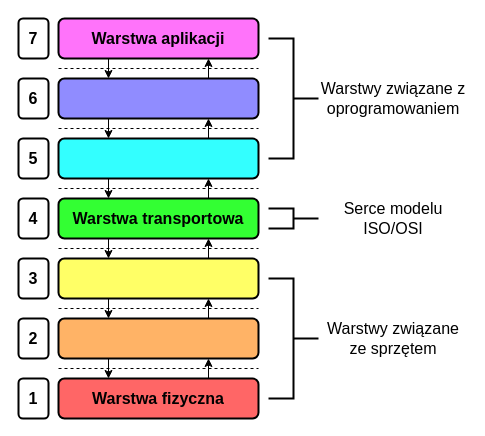
The diagram is 485 pixels wide and 436 high, and some of its shapes have lost their labels. Here are the shapes that lost their labels. From the top down, the centre of each, then its label:
At point (158, 98): "Warstwa prezentacji".
At point (158, 158): "Warstwa sesji".
At point (158, 278): "Warstwa sieciowa".
At point (158, 338): "Warstwa łącza danych".
